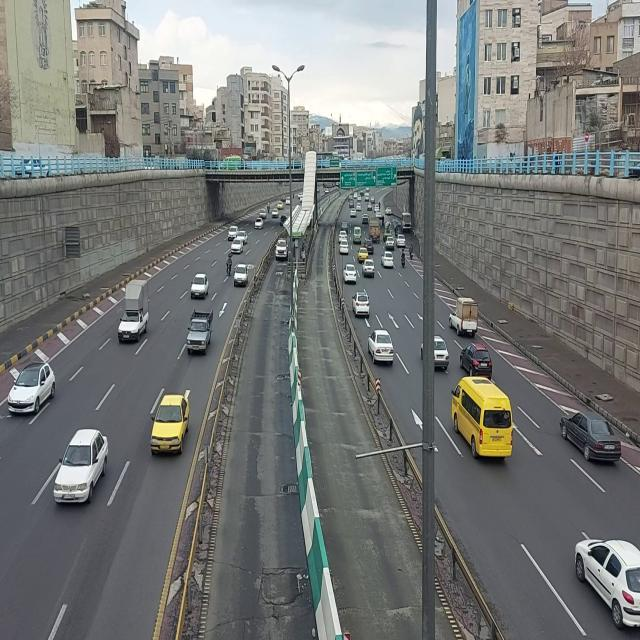Car: (574, 532, 640, 629), (52, 427, 110, 505), (559, 407, 623, 470), (6, 361, 58, 419), (151, 392, 193, 458), (460, 340, 496, 379), (367, 329, 395, 367), (189, 272, 211, 304), (351, 288, 371, 320), (434, 334, 450, 370), (233, 263, 249, 287), (342, 262, 358, 284), (275, 238, 289, 261), (362, 259, 375, 280), (231, 236, 245, 255), (381, 250, 394, 269), (358, 246, 370, 266), (227, 224, 237, 242), (339, 239, 349, 257), (364, 238, 374, 256), (385, 235, 395, 251), (396, 234, 407, 248), (254, 218, 264, 231), (339, 228, 348, 242), (280, 213, 288, 225), (361, 213, 369, 225), (385, 205, 393, 217), (259, 207, 267, 218), (271, 208, 279, 219), (376, 208, 383, 220), (350, 208, 358, 218), (277, 200, 285, 210), (356, 202, 363, 212), (286, 196, 291, 205), (293, 191, 296, 200)
Motorcycle: (226, 253, 234, 277), (401, 247, 407, 270), (409, 242, 415, 260), (267, 200, 271, 214), (395, 225, 399, 239), (381, 215, 385, 227)
Pickup: (117, 276, 153, 344), (186, 308, 216, 358), (449, 295, 479, 337), (367, 201, 373, 211)
Truck: (368, 218, 381, 243)
